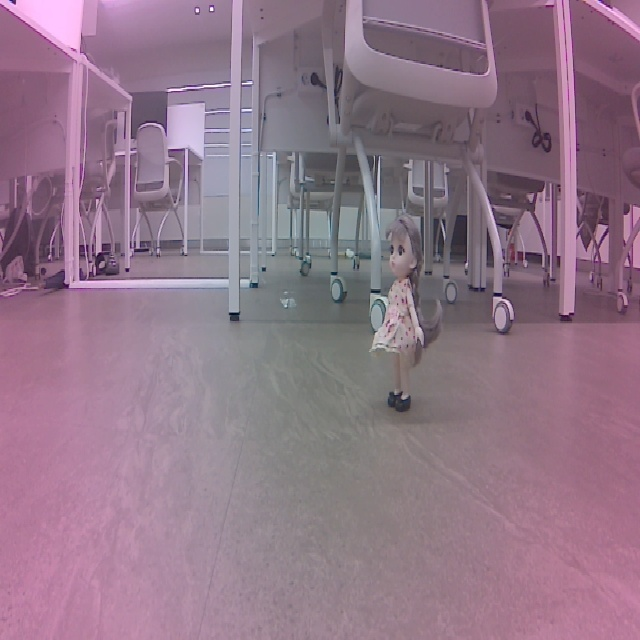장애물: (365, 205, 449, 428)
